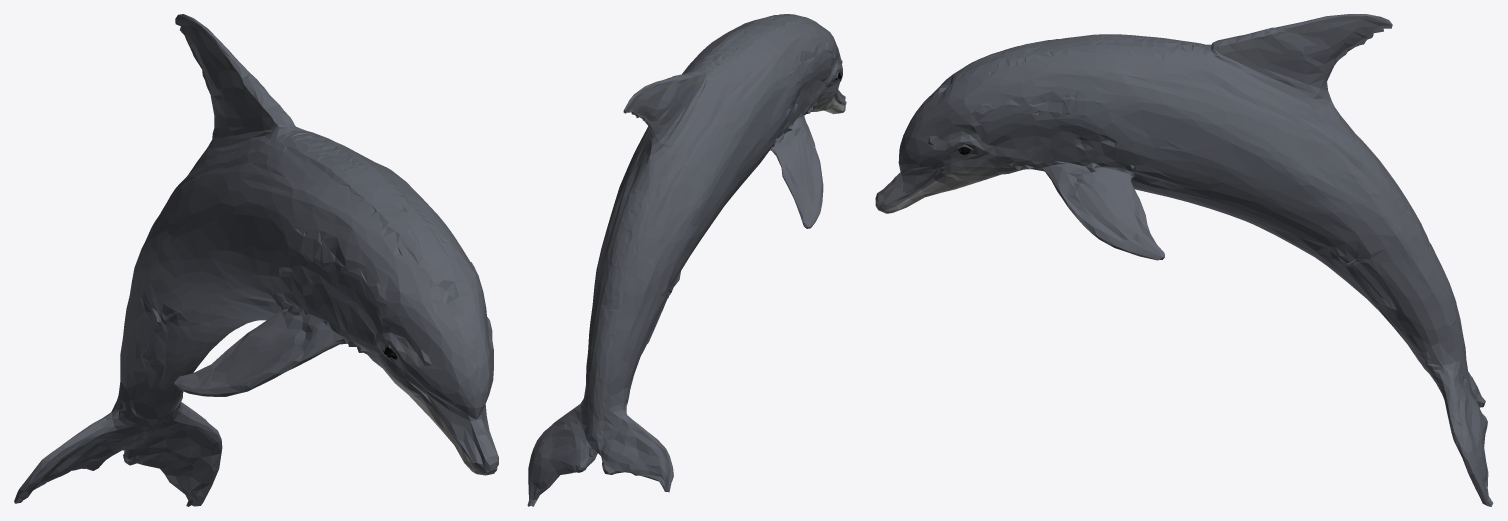
Rendered from dolphin_texture.obj.
The picture shows the model from 3 angles, left to right: view 1: azimuth 30°, elevation 25°; view 2: azimuth 150°, elevation 25°; view 3: azimuth 270°, elevation 25°; orthographic projection. The views are drawn at different scales.
Parts seen in each view (by area): view 1: dolphin_texture; view 2: dolphin_texture; view 3: dolphin_texture.
Boxes of the visible parts, x1=… form: dolphin_texture: x1=14, y1=14, x2=498, y2=506; dolphin_texture: x1=527, y1=14, x2=846, y2=506; dolphin_texture: x1=875, y1=14, x2=1493, y2=506.
Size of the model in its own units: 0.4137 by 0.8231 by 1.
Materials: 1 (1 with a texture image).
